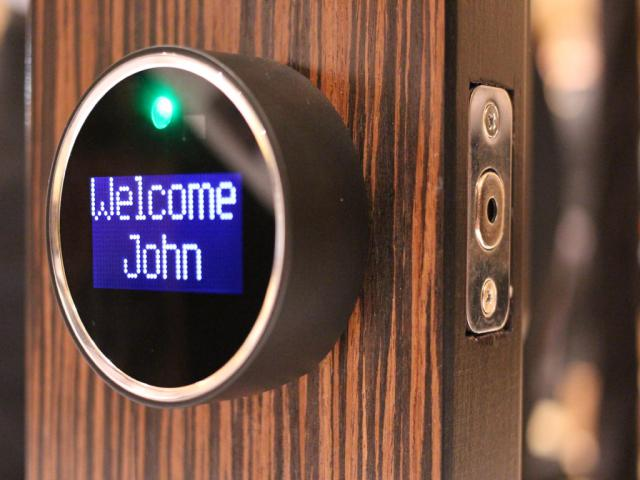Door-handle: (45, 43, 371, 409)
